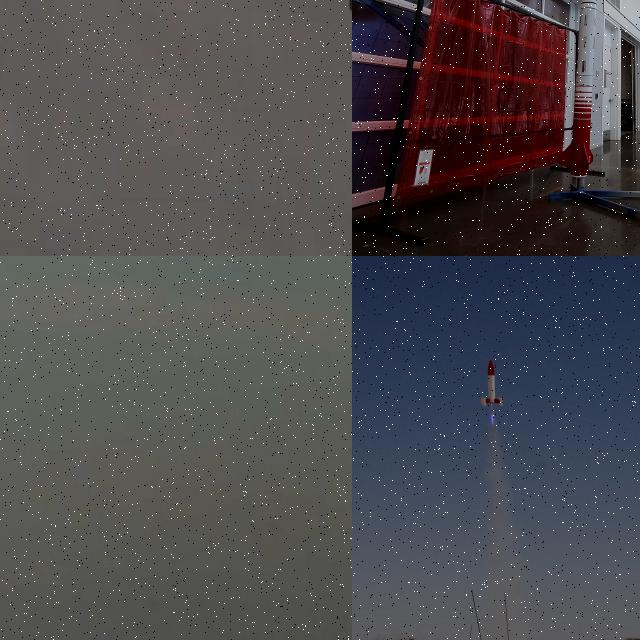Rocket: (558, 0, 597, 176), (481, 359, 504, 406)
